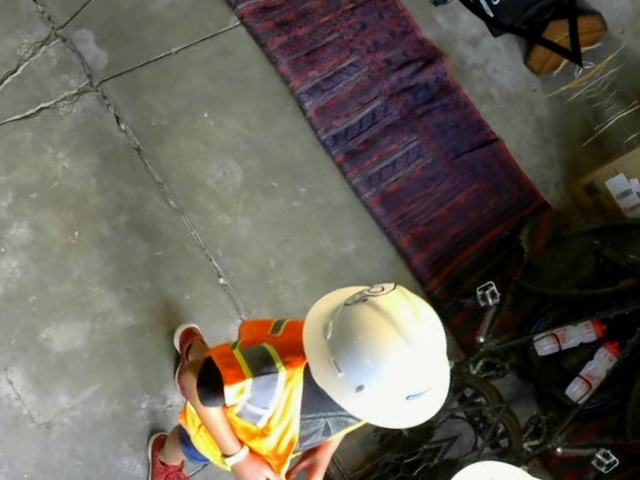eight: (339, 269, 399, 318)
